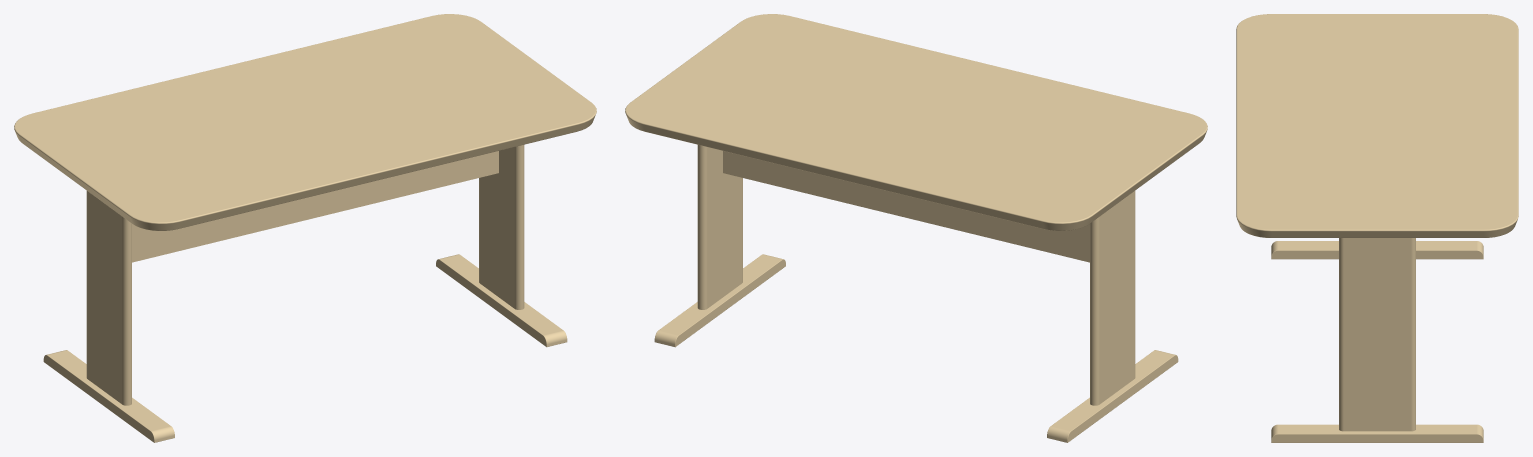
Rendered from 527_ダイニングテーブル4人掛け.glb.
3 views of the same model, side by side, from view 1: azimuth 30°, elevation 25°; view 2: azimuth 150°, elevation 25°; view 3: azimuth 270°, elevation 25° (orthographic). The views are drawn at different scales.
Visible parts, largest first — view 1: Body; view 2: Body; view 3: Body.
Boxes of the visible parts, bbox=[...] form: Body: bbox=[14, 14, 596, 442]; Body: bbox=[625, 14, 1207, 442]; Body: bbox=[1236, 14, 1518, 442].
Size of the model in its own units: 1.45 by 0.7 by 0.7974.
